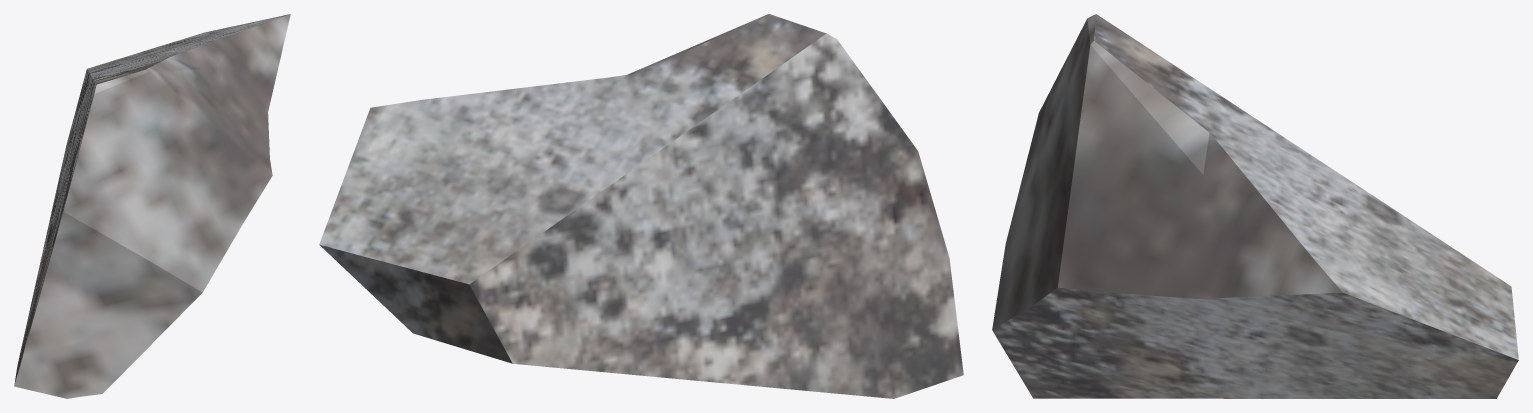
Rendered from Asteroid_Large_001_02_007_03_003.fbx.
3 renders of one model, left to right at view 1: azimuth 30°, elevation 25°; view 2: azimuth 150°, elevation 25°; view 3: azimuth 270°, elevation 25°, orthographic. The views are drawn at different scales.
Visible parts, largest first — view 1: Asteroid_Large_001_02_007_03_003; view 2: Asteroid_Large_001_02_007_03_003; view 3: Asteroid_Large_001_02_007_03_003.
Boxes of the visible parts, x1=… form: Asteroid_Large_001_02_007_03_003: x1=14, y1=14, x2=290, y2=398; Asteroid_Large_001_02_007_03_003: x1=319, y1=14, x2=963, y2=398; Asteroid_Large_001_02_007_03_003: x1=992, y1=14, x2=1518, y2=398.
Size of the model in its own units: 5.81 by 4.26 by 5.06.
